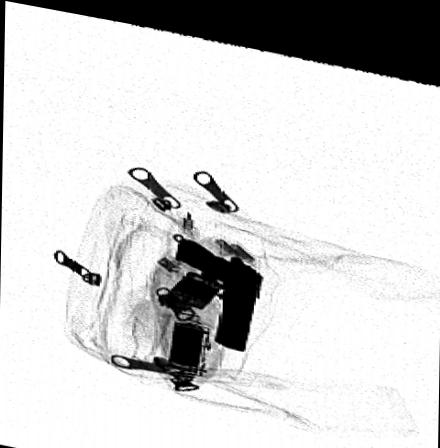Gun: (169, 225, 266, 342)
